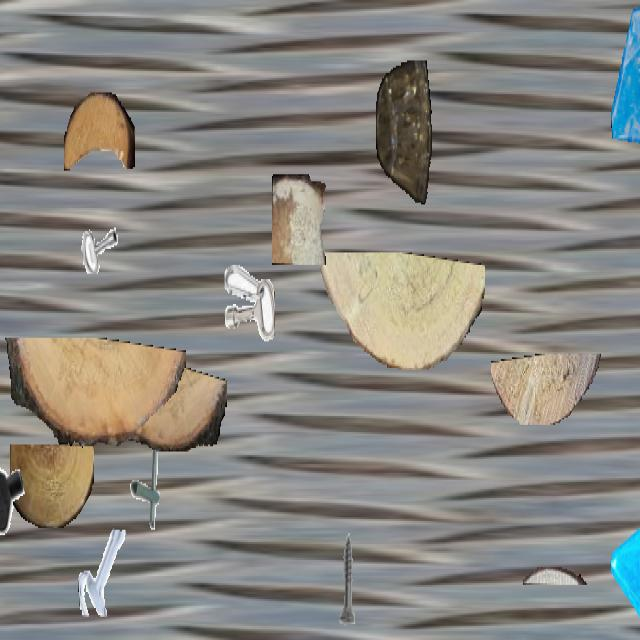glass: (609, 2, 640, 144), (611, 492, 640, 638)
metal: (320, 530, 374, 626), (68, 176, 122, 272), (122, 439, 174, 532), (224, 262, 274, 351), (78, 528, 128, 617), (0, 446, 29, 539)
plastic: (376, 60, 432, 206)
wood: (2, 338, 186, 448), (314, 252, 484, 370), (82, 359, 226, 452), (491, 354, 603, 425), (10, 444, 94, 526), (64, 92, 134, 170), (272, 174, 326, 263), (523, 567, 587, 585)
